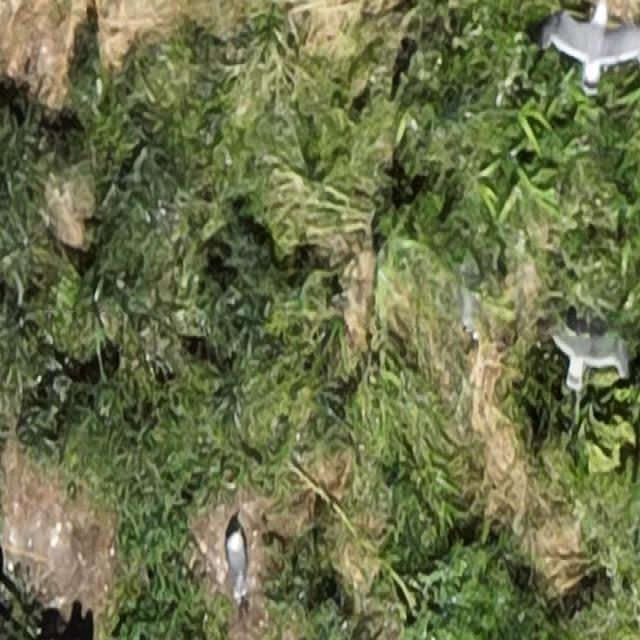F: (563, 18, 640, 89), (558, 334, 632, 388)
umineko: (224, 529, 248, 597)
